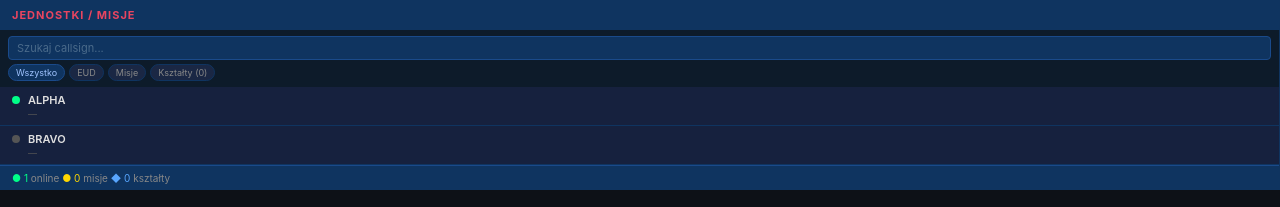
filtruje po callsign
This screenshot has width=1280, height=207.
Type "alp" into the field with placeholder "Szukaj callsign..." at coordinates (640, 48), box x1=8 y1=36 x2=1271 y2=60
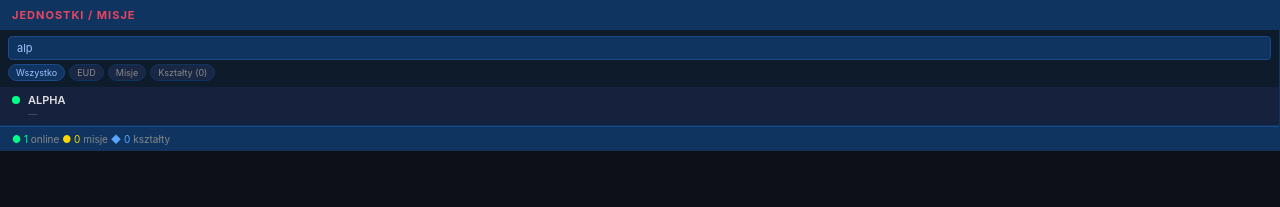
Expected: the text "ALPHA" is shown, x1=28 y1=93 x2=66 y2=107
Expected: the text "BRAVO" is gone
